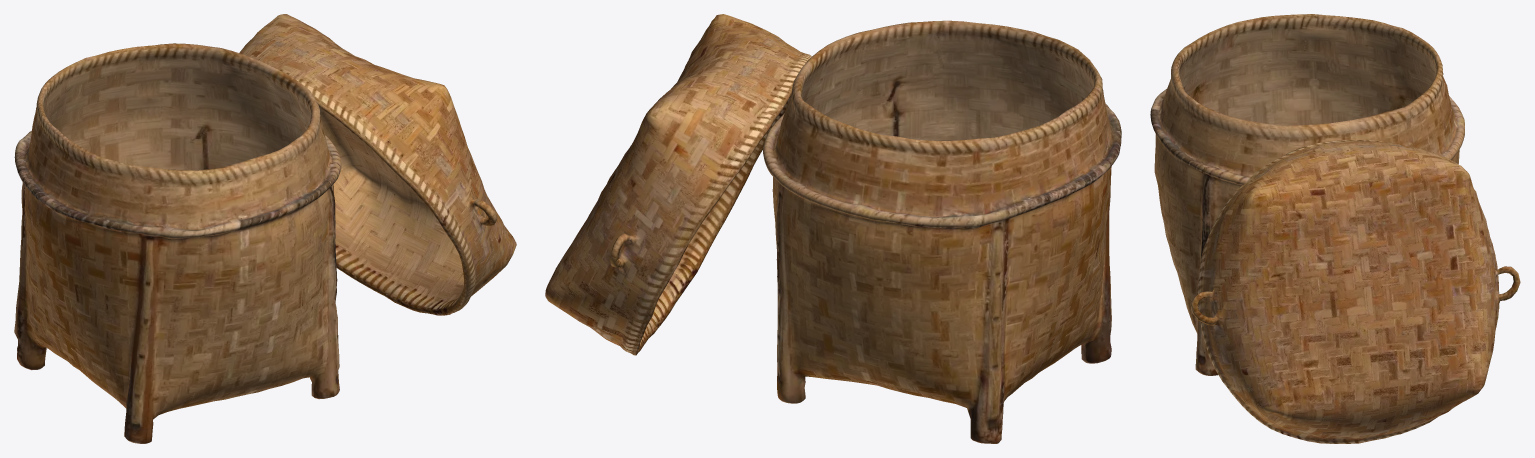
Rendered from wicker_basket_02.glb.
The picture shows the model from 3 angles, left to right: view 1: azimuth 30°, elevation 25°; view 2: azimuth 150°, elevation 25°; view 3: azimuth 270°, elevation 25°; orthographic projection. The views are drawn at different scales.
Visible parts, largest first — view 1: wicker_basket_02_base; view 2: wicker_basket_02_base; view 3: wicker_basket_02_base.
Part boxes in pixels (x1,y1,x2,y2): wicker_basket_02_base: (14, 14, 516, 443); wicker_basket_02_base: (545, 14, 1121, 443); wicker_basket_02_base: (1150, 14, 1520, 443).
Size of the model in its own units: 0.3469 by 0.2005 by 0.2544.
1 material, 1 textured.
